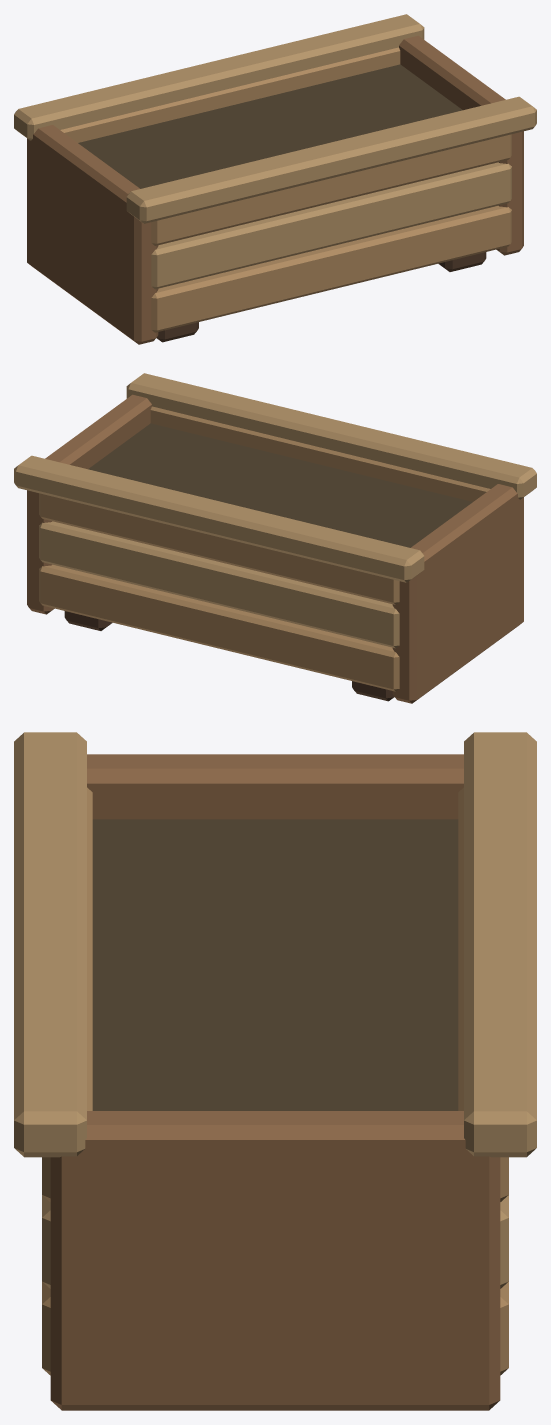
Rendered from planter.glb.
3 renders of one model, top to bottom at view 1: azimuth 30°, elevation 25°; view 2: azimuth 150°, elevation 25°; view 3: azimuth 270°, elevation 25°, orthographic. The views are drawn at different scales.
Parts seen in each view (by area): view 1: surface; view 2: surface; view 3: surface.
Boxes of the visible parts, bbox=[...] form: surface: bbox=[14, 14, 536, 344]; surface: bbox=[14, 373, 536, 703]; surface: bbox=[14, 732, 536, 1410].
Bounding box in the file's own units: 1.63 × 0.635 × 0.93.
